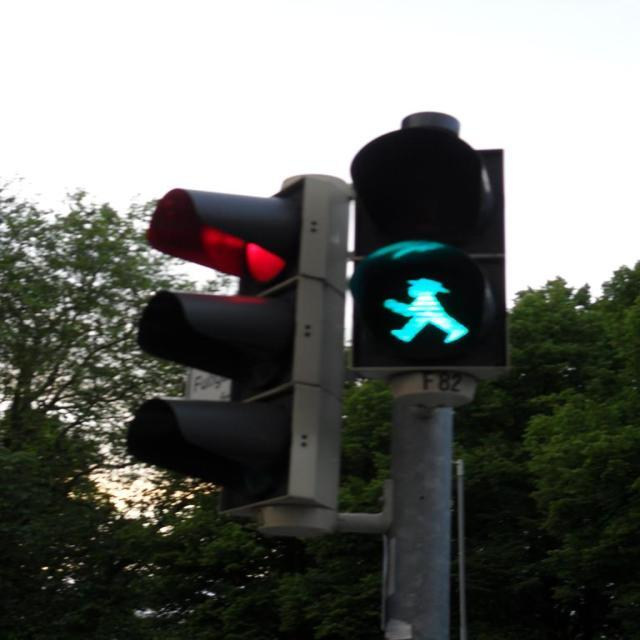traffic light: (128, 175, 350, 536), (350, 112, 508, 376)
